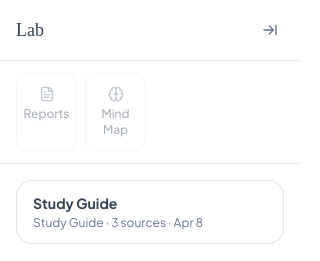
Test: LabPanel › clicking done artifact card enters viewer mode with artifact name and source count
This screenshot has width=320, height=261.
Check: the text "Study Guide" is shown, box 33,194 -> 117,212
# Click the artifact card (clickable area is the inner cursor-pointer div)
Click the text "Study Guide": (132, 212) 33,193 -> 231,231
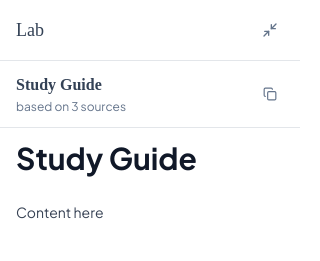
Check: the button named "minimize" is shown, box 256,16 -> 284,44
Check: the text "based on 3 sources" is shown, box 16,99 -> 126,114
Check: the button named "copy" is shown, box 256,80 -> 284,108
